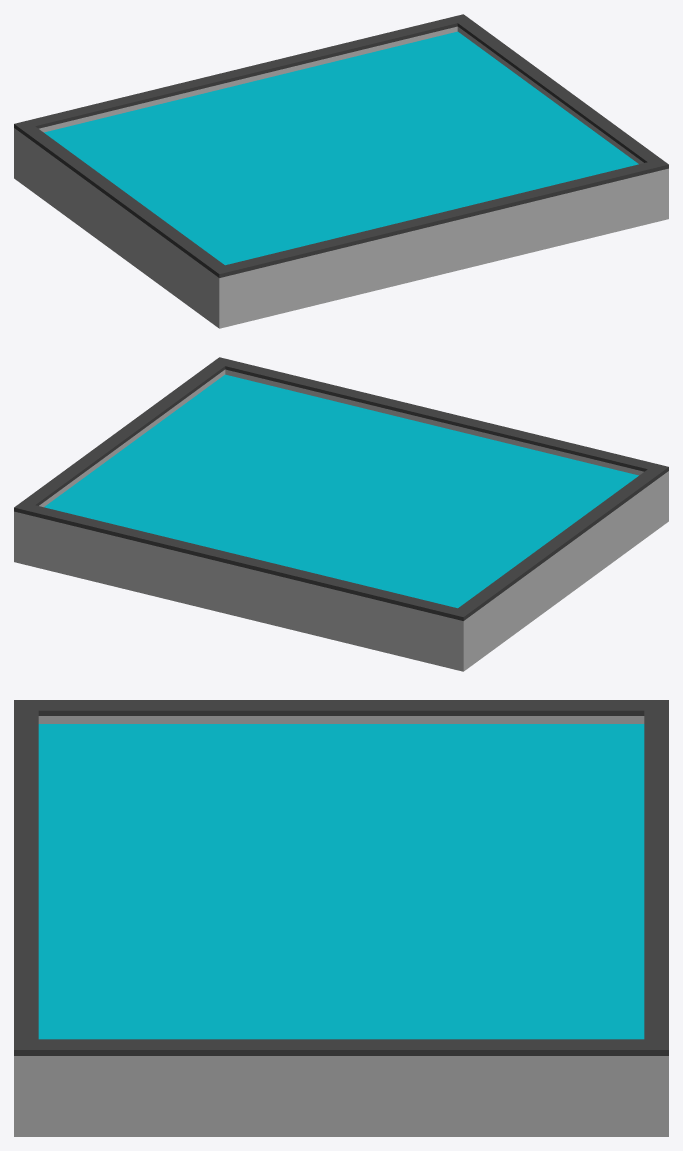
Rendered from Fwater-01.fbx.
3 renders of one model, top to bottom at view 1: azimuth 30°, elevation 25°; view 2: azimuth 150°, elevation 25°; view 3: azimuth 270°, elevation 25°, orthographic. The views are drawn at different scales.
Visible parts, largest first — view 1: Fwater-01-Water, Fwater-01; view 2: Fwater-01-Water, Fwater-01; view 3: Fwater-01-Water, Fwater-01.
Boxes of the visible parts, x1,y1,x2,y2 form: Fwater-01-Water: [44, 31, 638, 265]; Fwater-01: [14, 14, 668, 328]; Fwater-01-Water: [44, 374, 638, 608]; Fwater-01: [14, 357, 668, 671]; Fwater-01-Water: [38, 724, 644, 1039]; Fwater-01: [14, 700, 668, 1136].
Size of the model in its own units: 6.72 by 0.7792 by 5.32.
